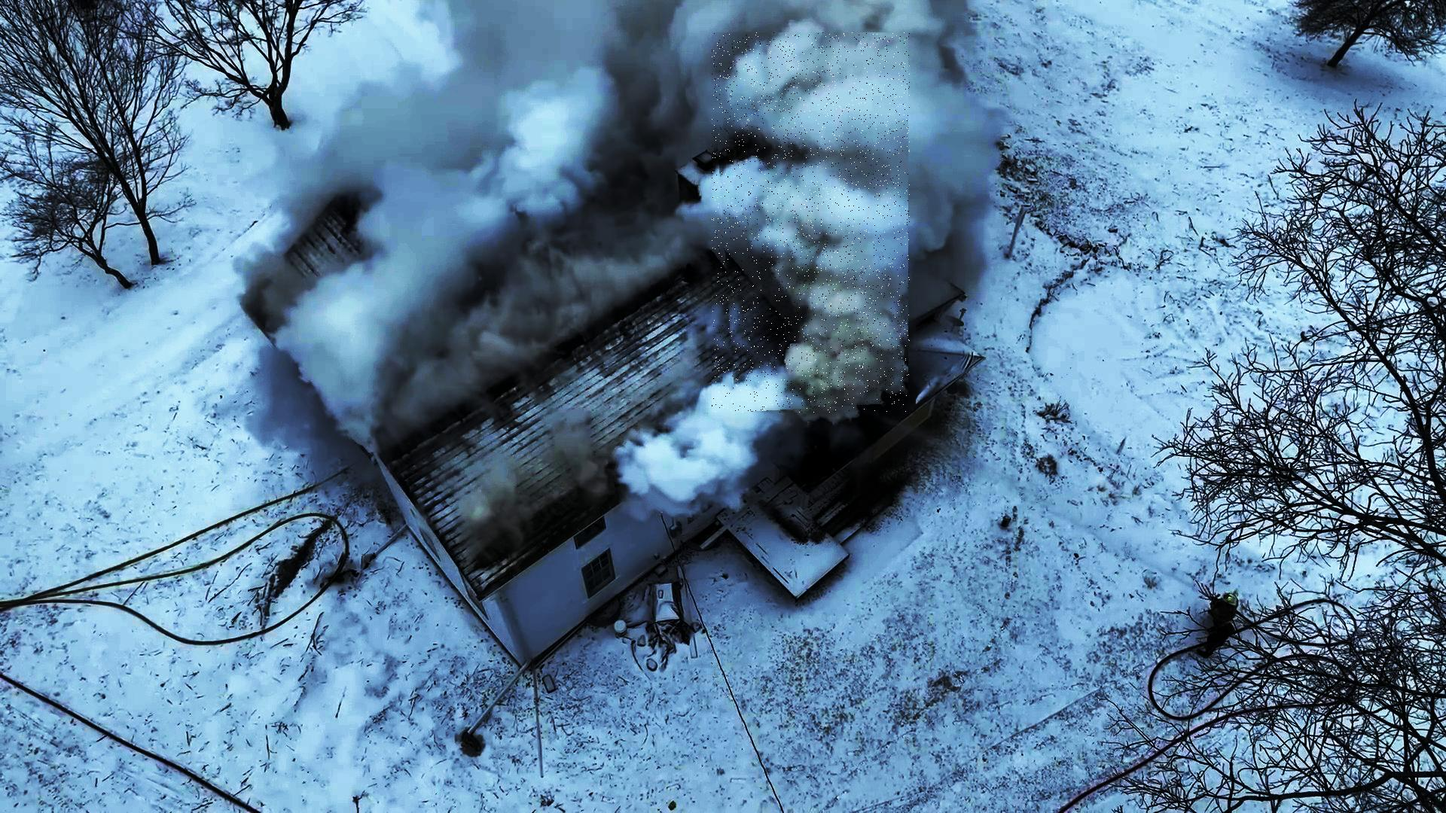smoke: (712, 33, 910, 413)
